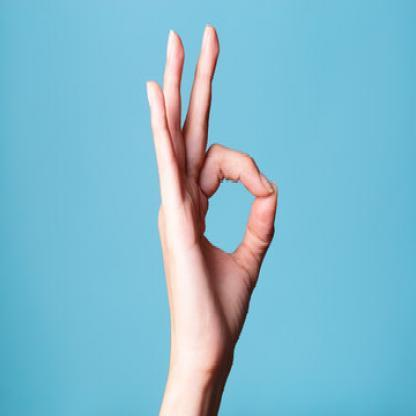ok: (142, 18, 282, 392)
